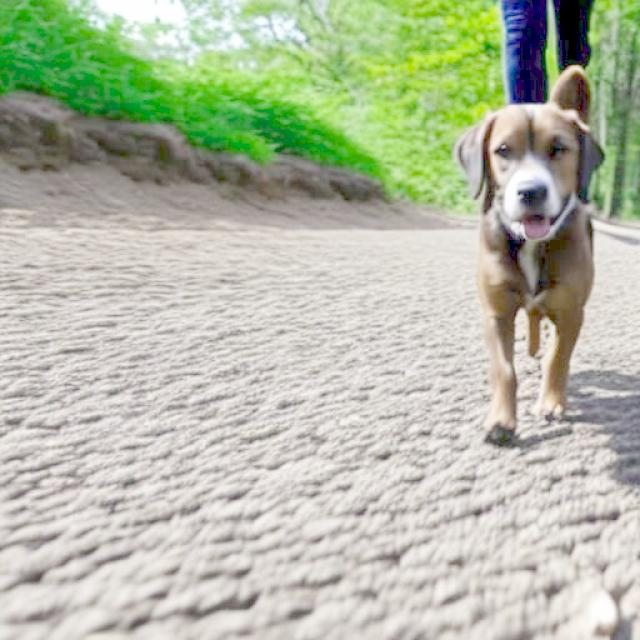Unleashed_Dog: (457, 0, 604, 440)
